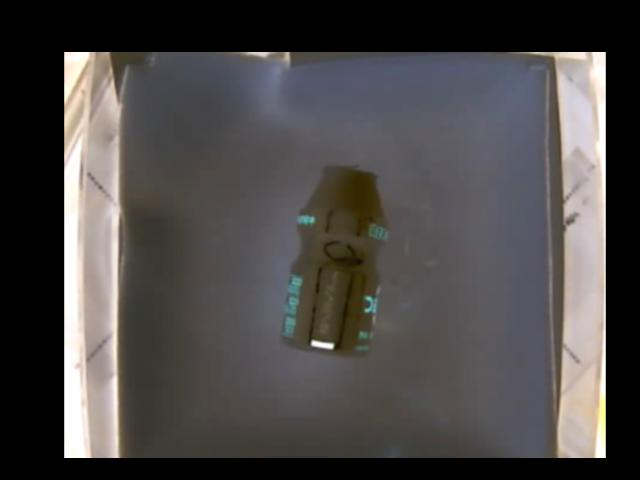Bottle: (280, 165, 385, 357)
